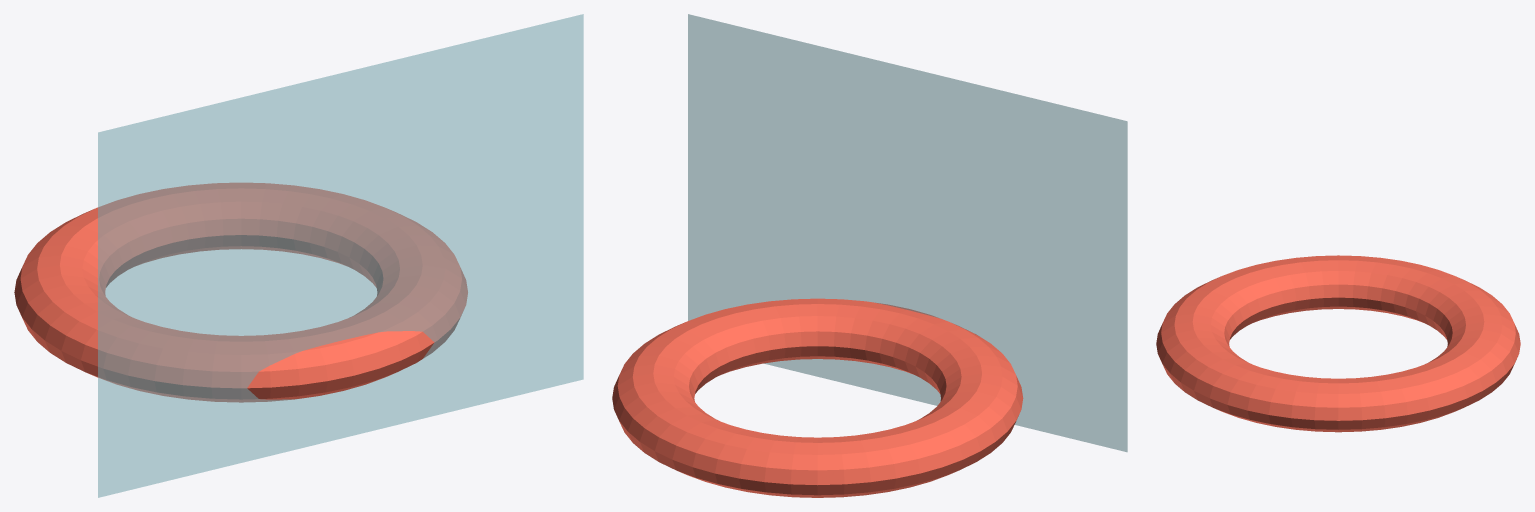
The model's file is hoop.fbx.
3 views of the same model, side by side, from view 1: azimuth 30°, elevation 25°; view 2: azimuth 150°, elevation 25°; view 3: azimuth 270°, elevation 25° (orthographic). The views are drawn at different scales.
Parts seen in each view (by area): view 1: Plane.001, Torus; view 2: Plane.001, Torus; view 3: Torus.
Part boxes in pixels (x1=…): Plane.001: x1=98, y1=14, x2=583, y2=497; Torus: x1=14, y1=182, x2=467, y2=402; Plane.001: x1=688, y1=14, x2=1127, y2=451; Torus: x1=612, y1=298, x2=1023, y2=497; Torus: x1=1156, y1=255, x2=1520, y2=432.
Size of the model in its own units: 278 by 200 by 225.
